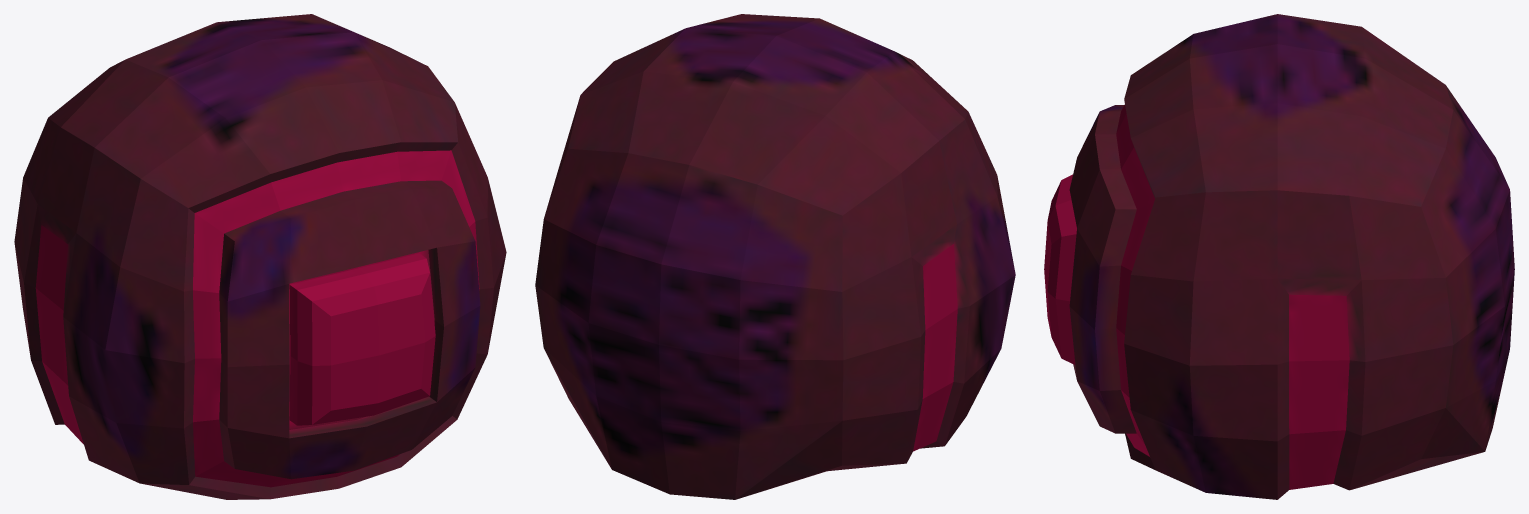
Rendered from DefectBotNew.fbx.
3 views of the same model, side by side, from view 1: azimuth 30°, elevation 25°; view 2: azimuth 150°, elevation 25°; view 3: azimuth 270°, elevation 25° (orthographic). The views are drawn at different scales.
Parts seen in each view (by area): view 1: DefectBot; view 2: DefectBot; view 3: DefectBot.
Boxes of the visible parts, left/top/right/bottom form: DefectBot: left=14, top=14, right=506, bottom=499; DefectBot: left=535, top=14, right=1015, bottom=499; DefectBot: left=1044, top=14, right=1514, bottom=499.
Size of the model in its own units: 58.17 by 57.27 by 59.96.
1 material, 1 textured.
